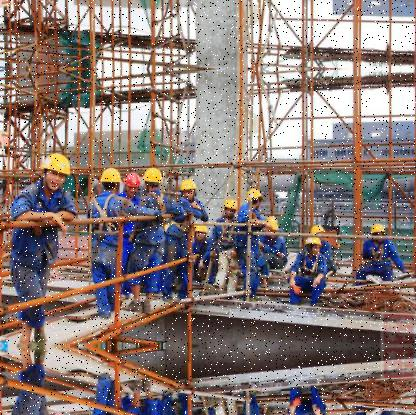helmet: (41, 150, 74, 191), (101, 165, 123, 194), (144, 164, 164, 192), (181, 178, 200, 201), (125, 172, 143, 196), (247, 186, 265, 209), (305, 235, 323, 255), (193, 219, 211, 239), (224, 195, 239, 217), (371, 222, 386, 243), (312, 222, 326, 241)
